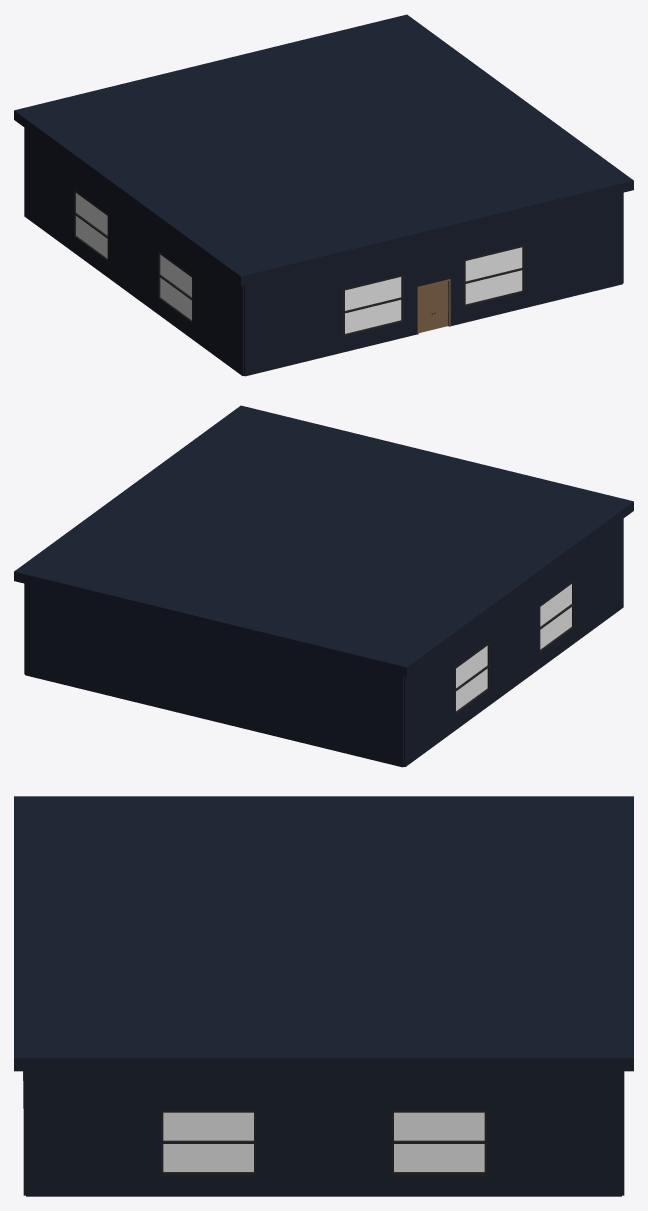
The model's file is phongthinghiem.fbx.
3 views of the same model, one above another, from view 1: azimuth 30°, elevation 25°; view 2: azimuth 150°, elevation 25°; view 3: azimuth 270°, elevation 25° (orthographic). The views are drawn at different scales.
Visible parts, largest first — view 1: Arch_Ceiling_Solid, Cube.002, Cube.012, Cube.021, Cube.030, Cube.039, Cube.020, Cube.010, Cube.004, Cube.014, Cube.011, Cube.001 (+11 smaller); view 2: Arch_Ceiling_Solid, Arch_Wall_Back, Cube.039, Cube.030, Cube.021, Cube.029, Cube.038, Cube.032, Cube.023, Cube.022, Cube.031; view 3: Arch_Ceiling_Solid, Cube.049, Cube.040, Cube.058, Cube.048, Cube.057, Cube.042, Cube.051, Cube.041, Cube.050.
Boxes of the visible parts, x1,y1,x2,y2 form: Arch_Ceiling_Solid: (14,14,633,285); Cube.002: (244,261,343,376); Cube.012: (524,193,622,307); Cube.021: (193,251,243,375); Cube.030: (108,189,158,313); Cube.039: (24,127,73,252); Cube.020: (465,247,522,304); Cube.010: (345,277,401,333); Cube.004: (343,246,403,288); Cube.014: (464,217,524,259); Cube.011: (448,231,464,326); Cube.001: (403,242,418,337); Arch_Ceiling_Solid: (14,405,633,676); Arch_Wall_Back: (25,584,403,767); Cube.039: (404,642,454,766); Cube.030: (489,580,539,704); Cube.021: (574,518,623,643); Cube.029: (540,584,571,649); Cube.038: (456,645,487,710); Cube.032: (455,617,489,667); Cube.023: (539,555,573,605); Cube.022: (539,628,573,668); Cube.031: (455,690,489,730); Arch_Ceiling_Solid: (14,796,633,1071); Cube.049: (256,1071,391,1196); Cube.040: (26,1071,160,1196); Cube.058: (487,1071,621,1196); Cube.048: (163,1112,253,1171); Cube.057: (394,1112,484,1171); Cube.042: (161,1071,256,1110); Cube.051: (391,1071,486,1110); Cube.041: (161,1175,256,1196); Cube.050: (391,1175,486,1196).
Bounding box in the file's own units: 2600 × 660 × 2600.
